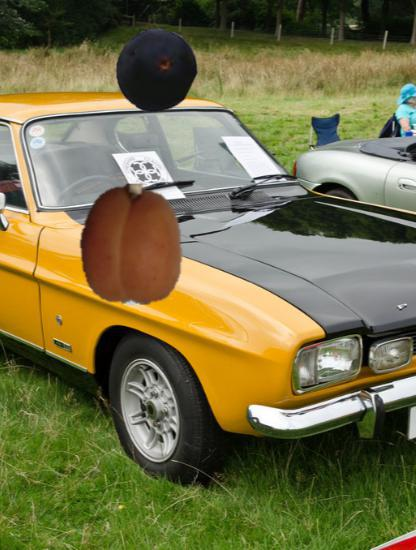Apricot: (70, 184, 191, 305)
Grape: (114, 28, 199, 113)
